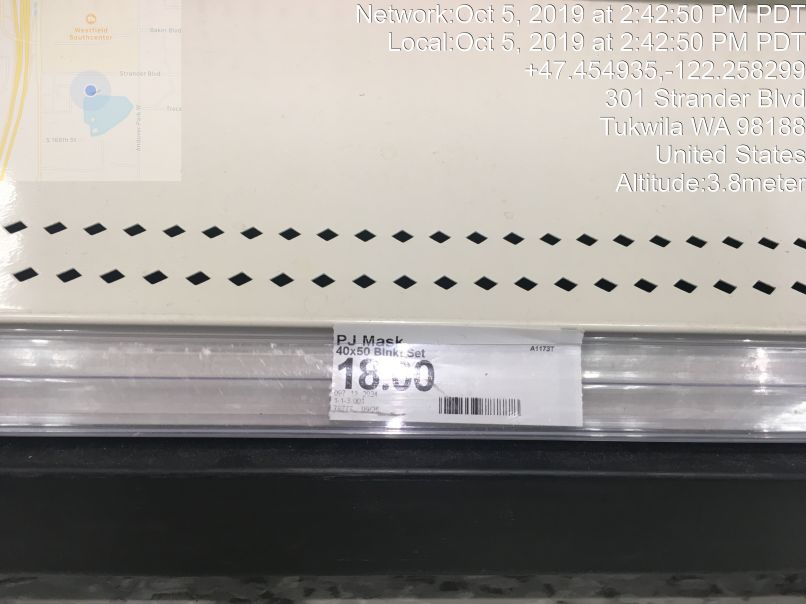Label: (328, 317, 598, 431)
Location: (597, 83, 806, 169)
Time: (346, 1, 806, 58)
Void: (38, 18, 772, 289)
